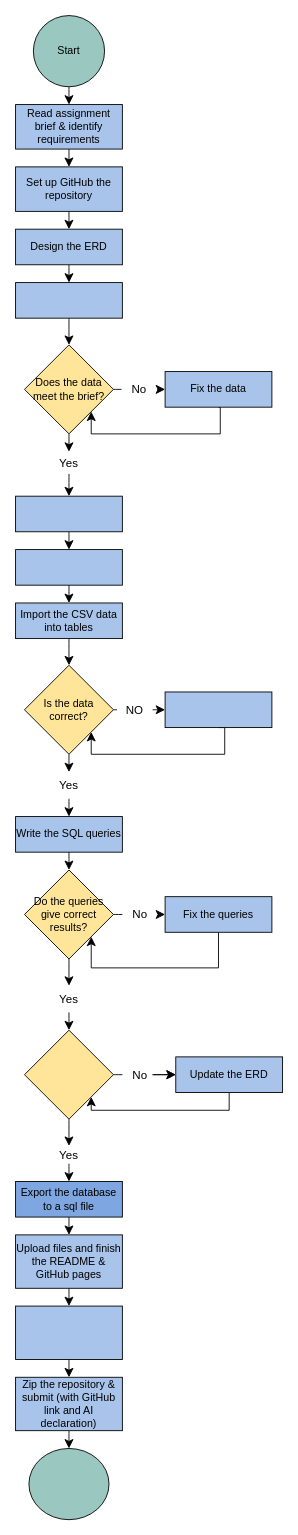
This 298x1535 diagram has some shape labels left out. The centre of each missing label's shape, as x and y in pixels:
"Complete the team portfolio (agendas, minutes, action plan)" goes at (x=68, y=1332).
"Create MySQL database" goes at (x=68, y=513).
"Create the tables with keys and constraints" goes at (x=68, y=567).
"Does the ERD match the database?" goes at (x=68, y=1074).
"End" goes at (x=68, y=1484).
"Fix the CSVdata" goes at (x=218, y=709).
"Generate CSV data" goes at (x=68, y=300).
